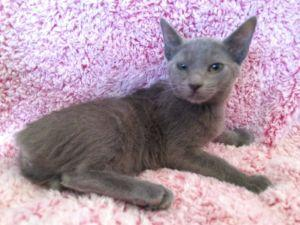rblue: (151, 10, 263, 115)
